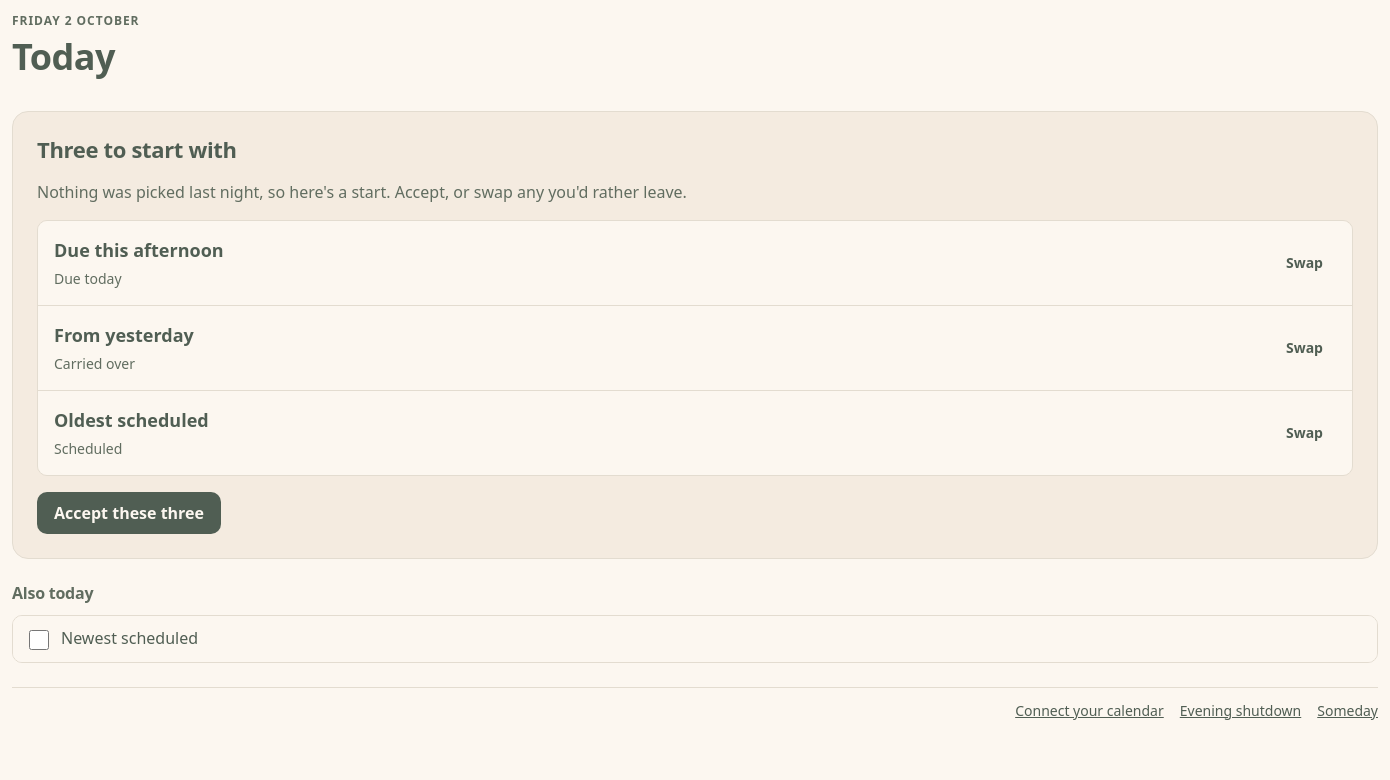
Test: TodayRoute: shutdown skipped — a proposal, one tap to accept or swap › swapping replaces one with the next candidate in line
The width and height of the screenshot is (1390, 780).
Click the button with aria-label "Swap From yesterday".
click(1304, 348)  # box [1273,332,1336,363]
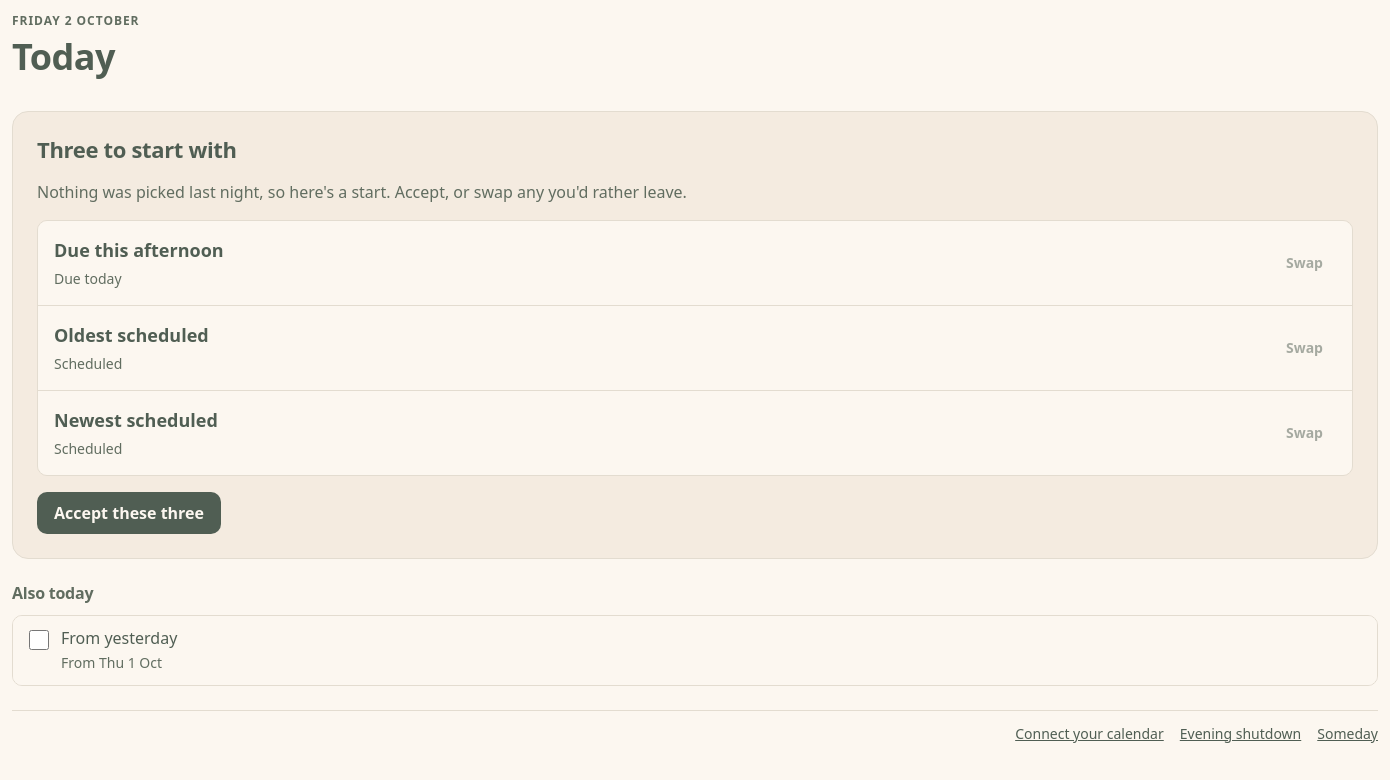
Expected: the text "Newest scheduled" is shown, [54,408,218,432]
